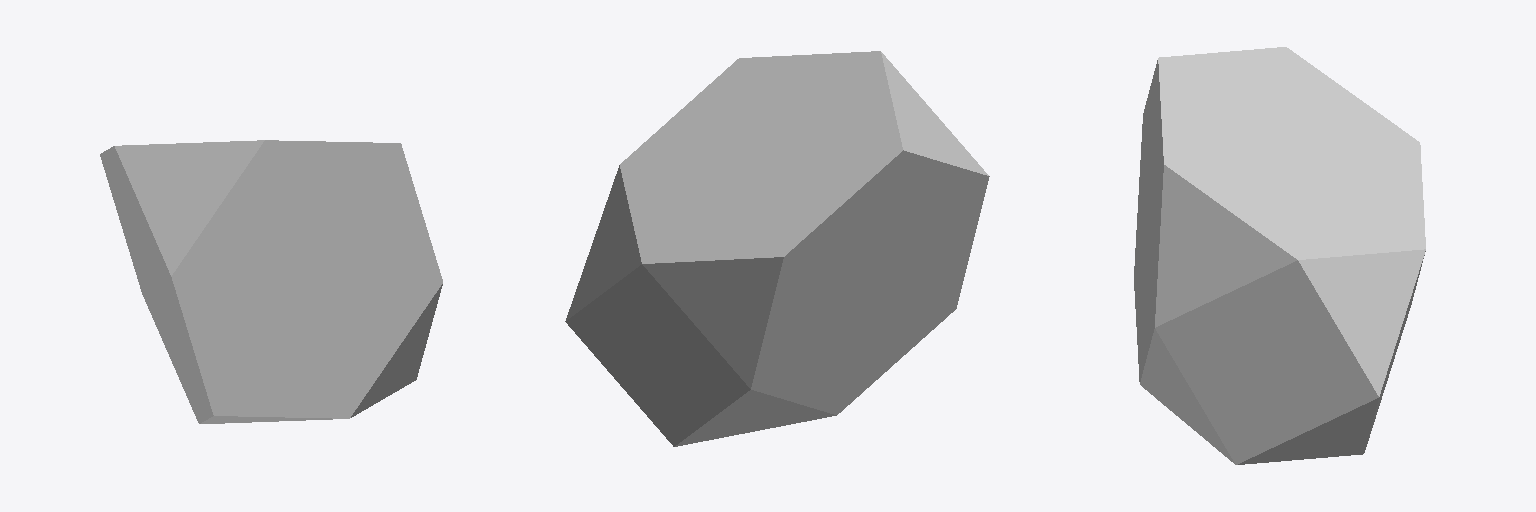
The model's file is AugmentedTruncatedTetrahedron.obj.
The picture shows the model from 3 angles: view 1: azimuth 30°, elevation 25°; view 2: azimuth 150°, elevation 25°; view 3: azimuth 270°, elevation 25°; orthographic projection.
Visible parts, largest first — view 1: AugmentedTruncatedTetrahedron; view 2: AugmentedTruncatedTetrahedron; view 3: AugmentedTruncatedTetrahedron.
Part boxes in pixels (left/top/right/bottom): AugmentedTruncatedTetrahedron: left=100, top=140, right=442, bottom=423; AugmentedTruncatedTetrahedron: left=565, top=51, right=989, bottom=446; AugmentedTruncatedTetrahedron: left=1134, top=47, right=1425, bottom=464.
Bounding box in the file's own units: 1.6 × 1.72 × 1.32.